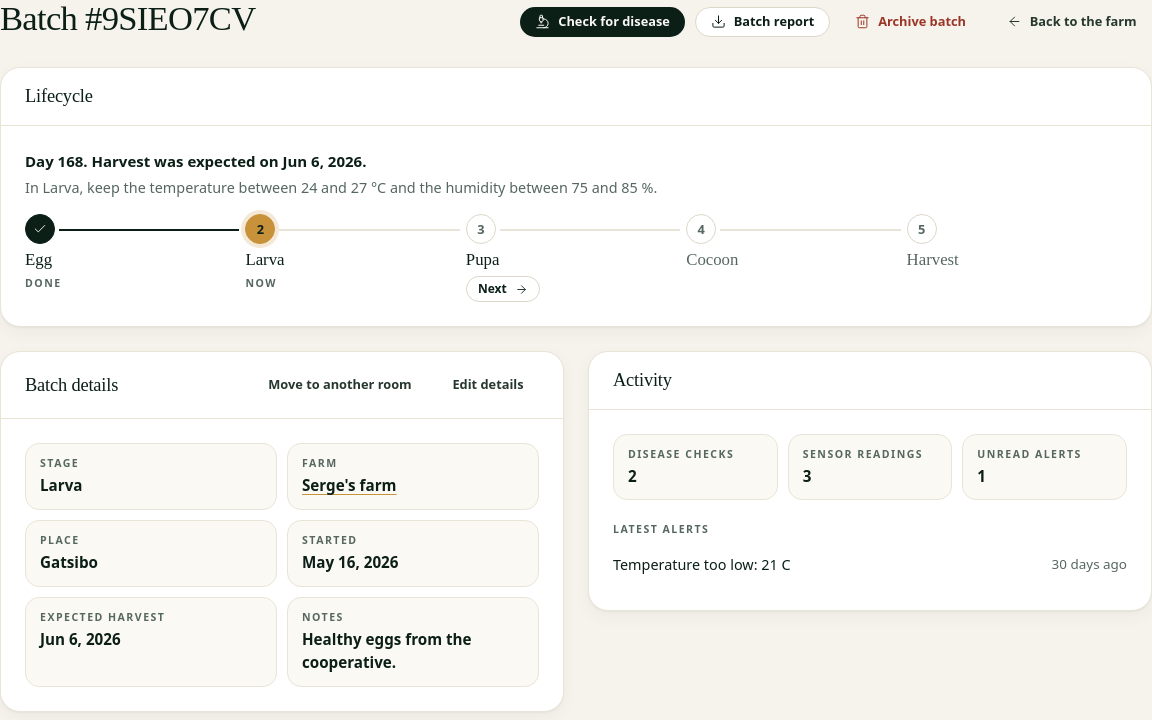
Test: Batch details page › asks before moving the batch to the next stage, then moves it
Click the button with aria-label "Move to Pupa".
click(503, 289)  # box x1=466 y1=276 x2=540 y2=302
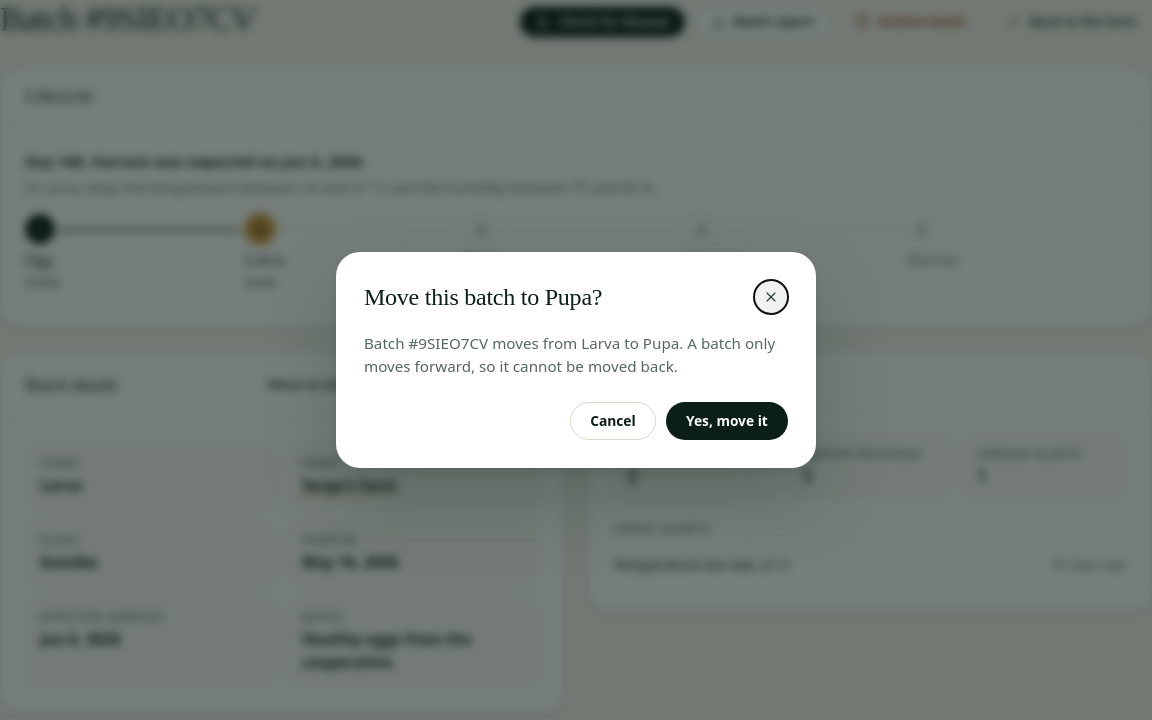
Now the dialog "Move this batch to Pupa?" shows "cannot be moved back", box x1=364 y1=333 x2=775 y2=376
Click the button "Yes, move it".
click(727, 421)  # box x1=666 y1=402 x2=788 y2=440
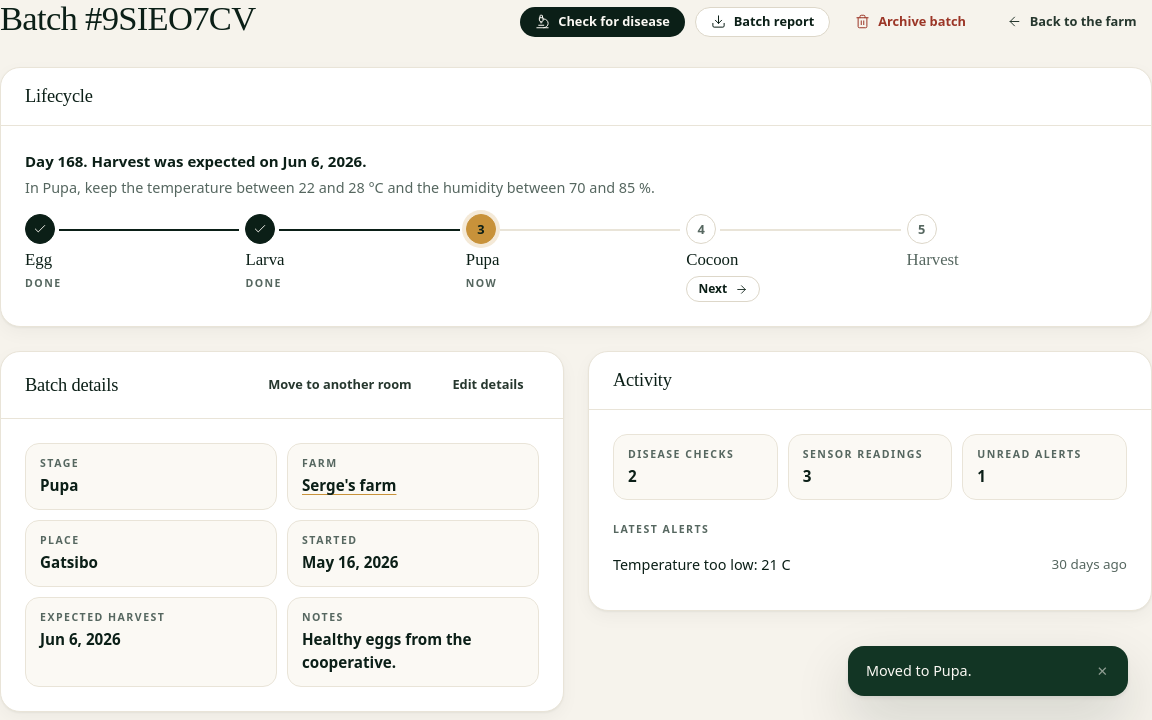
Now the button with aria-label "Move to Cocoon" is shown, box x1=686 y1=276 x2=760 y2=302
